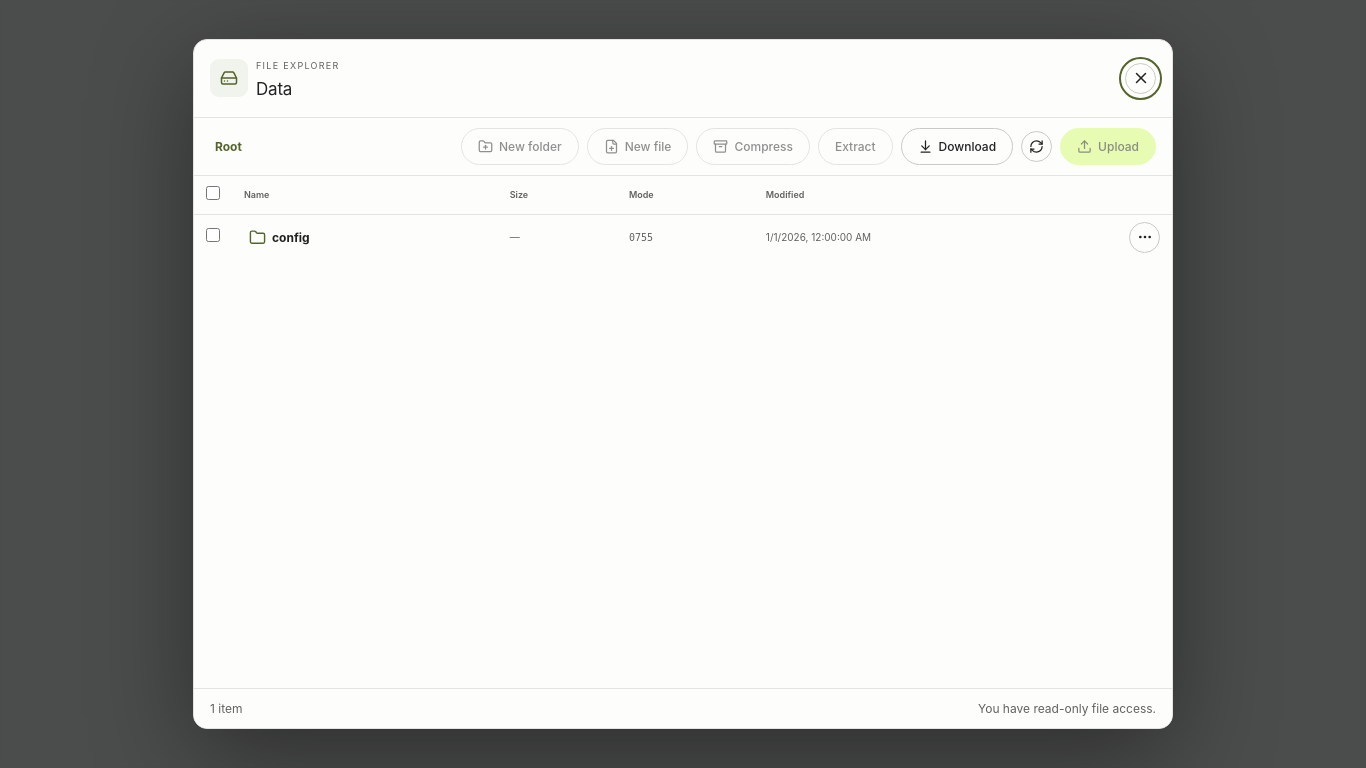
file explorer › can browse a read-only target without exposing writes
Expected: the button "Upload" is disabled, x1=1060 y1=128 x2=1156 y2=165
Click the button "config" at (279, 237), box x1=244 y1=219 x2=315 y2=256
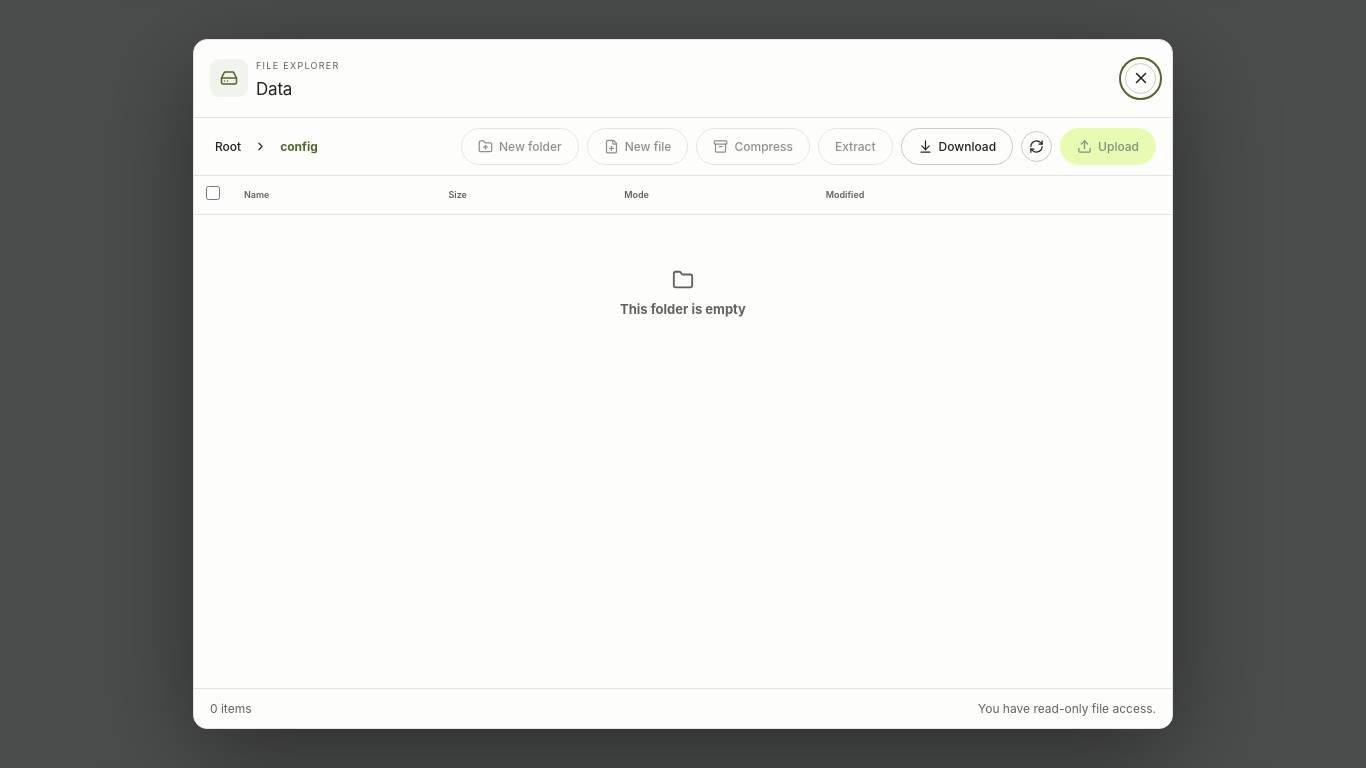
Expected: the text "This folder is empty" is shown, x1=620 y1=299 x2=746 y2=320
